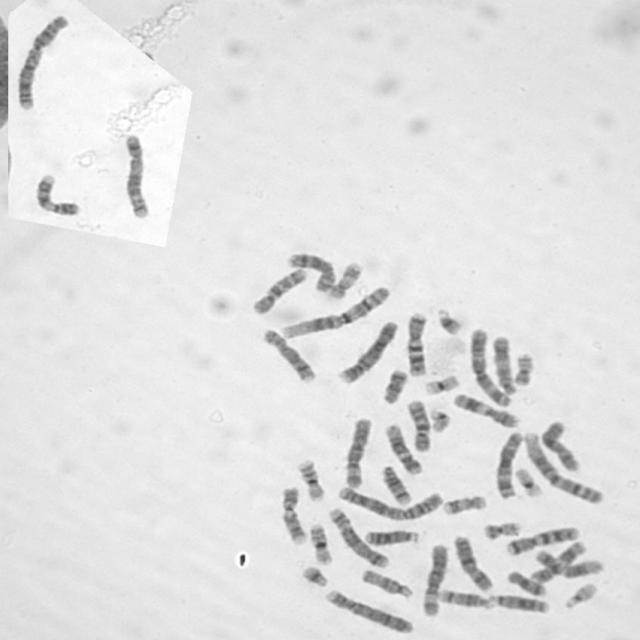A1: (518, 426, 604, 506), (276, 281, 392, 340)
A2: (10, 10, 70, 111), (332, 481, 444, 522)
A3: (465, 323, 515, 408), (490, 426, 526, 500)
B4: (332, 315, 400, 385), (320, 585, 414, 635)
B5: (324, 503, 391, 569), (118, 129, 153, 219)
C10: (246, 263, 309, 316), (402, 395, 432, 452)
C11: (448, 388, 521, 429), (526, 536, 588, 584)
C12: (528, 545, 603, 579), (379, 419, 423, 476)
C6: (416, 538, 450, 618), (338, 413, 373, 488)
C7: (500, 521, 581, 556), (400, 308, 430, 378)
C8: (256, 324, 316, 384), (282, 248, 337, 294)
C9: (30, 168, 81, 217), (275, 482, 308, 546)
D13: (484, 590, 552, 614), (359, 525, 420, 547)
D14: (376, 461, 412, 506), (433, 584, 494, 610)
D15: (356, 564, 414, 599), (490, 336, 518, 397)
E16: (291, 454, 326, 502), (304, 519, 333, 566)
E17: (323, 258, 363, 300), (436, 490, 488, 516)
E18: (502, 566, 546, 597), (376, 364, 409, 405)
F19: (510, 463, 544, 499), (418, 370, 461, 396)
F20: (478, 516, 522, 541), (508, 348, 536, 387)
G21: (432, 303, 463, 336), (296, 561, 330, 588)
G22: (558, 578, 599, 610), (425, 404, 452, 434)
X: (448, 530, 496, 593), (536, 415, 582, 473)
